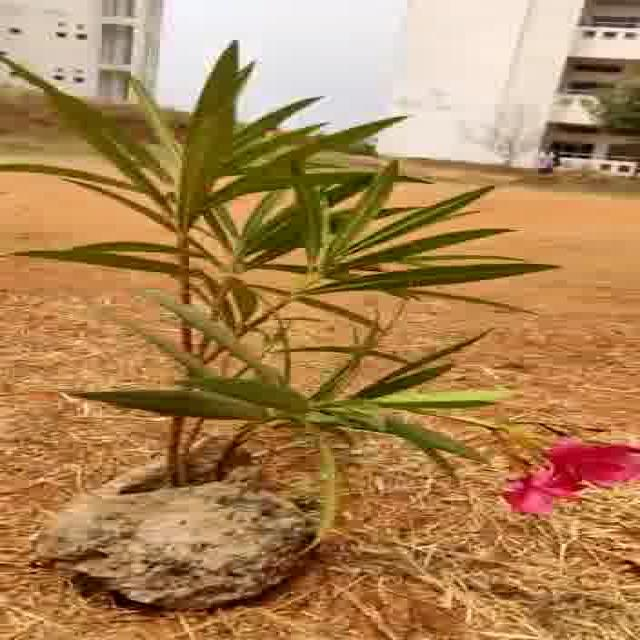OLEANDER: (0, 35, 631, 515)
